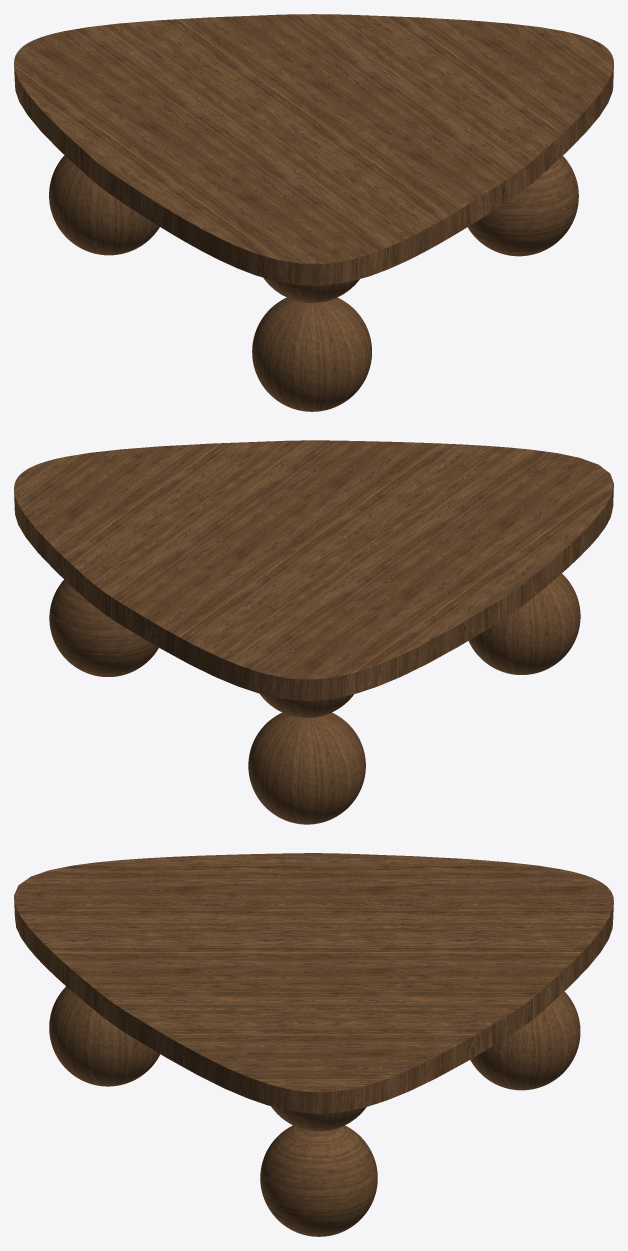
Rendered from orbit coffee table.glb.
3 renders of one model, top to bottom at view 1: azimuth 30°, elevation 25°; view 2: azimuth 150°, elevation 25°; view 3: azimuth 270°, elevation 25°, orthographic. The views are drawn at different scales.
Size of the model in its own units: 1.25 by 0.4394 by 1.33.
Materials: 1 (1 with a texture image).
